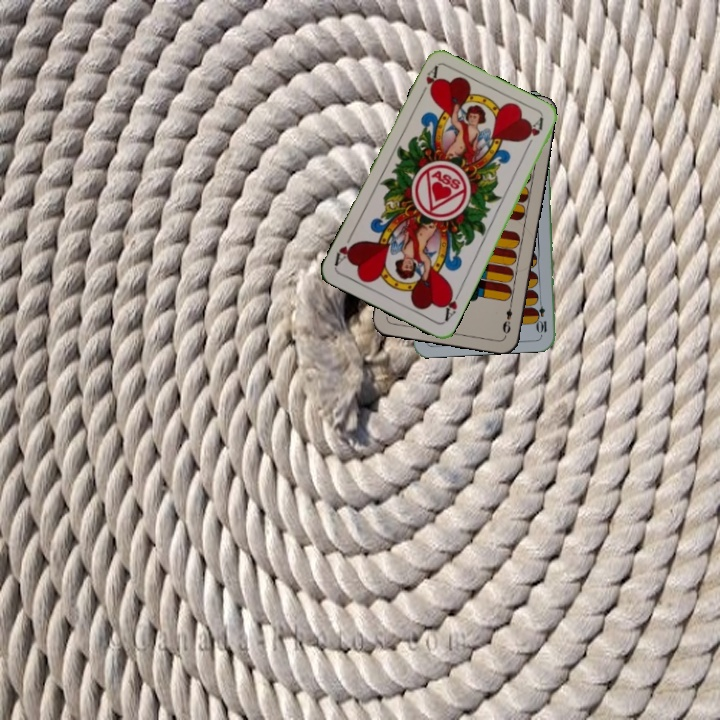E10: (534, 295, 549, 335)
E9: (499, 297, 515, 336)
HA: (439, 285, 464, 324), (416, 62, 441, 101)
